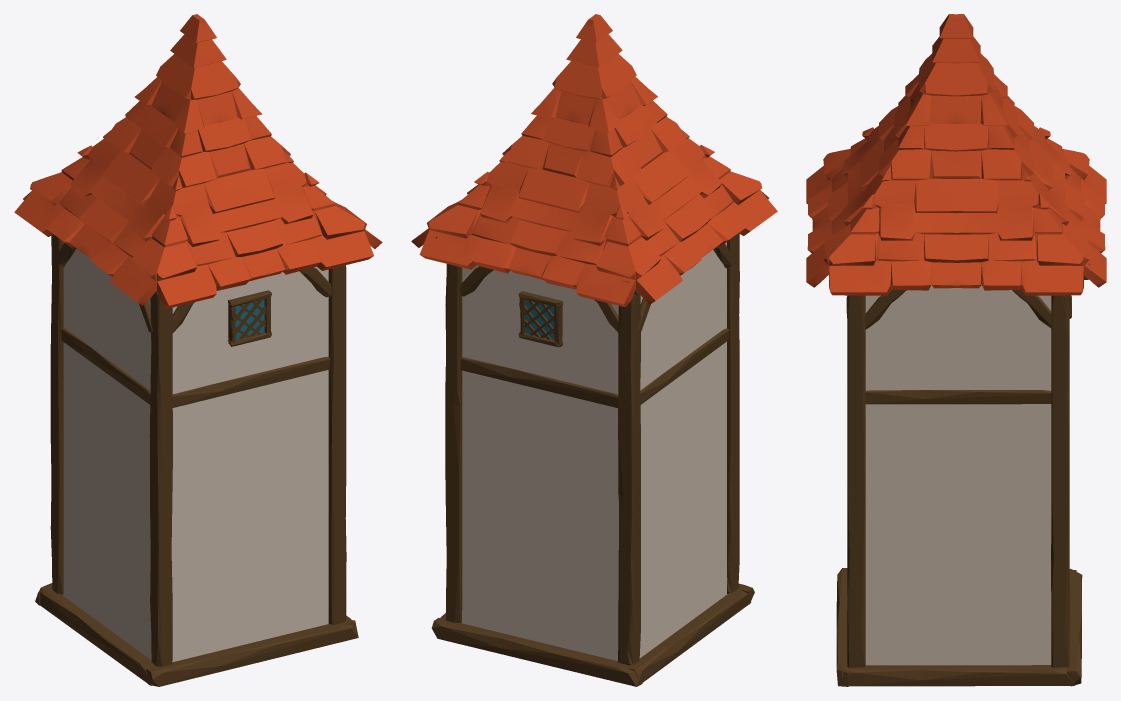
Rendered from SM_turret_01.fbx.
3 renders of one model, left to right at view 1: azimuth 30°, elevation 25°; view 2: azimuth 150°, elevation 25°; view 3: azimuth 270°, elevation 25°, orthographic. The views are drawn at different scales.
Parts seen in each view (by area): view 1: Object32396; view 2: Object32396; view 3: Object32396.
Boxes of the visible parts, bbox=[...] form: Object32396: bbox=[14, 14, 382, 686]; Object32396: bbox=[411, 14, 777, 686]; Object32396: bbox=[806, 14, 1106, 686].
Size of the model in its own units: 268 by 629 by 276.
